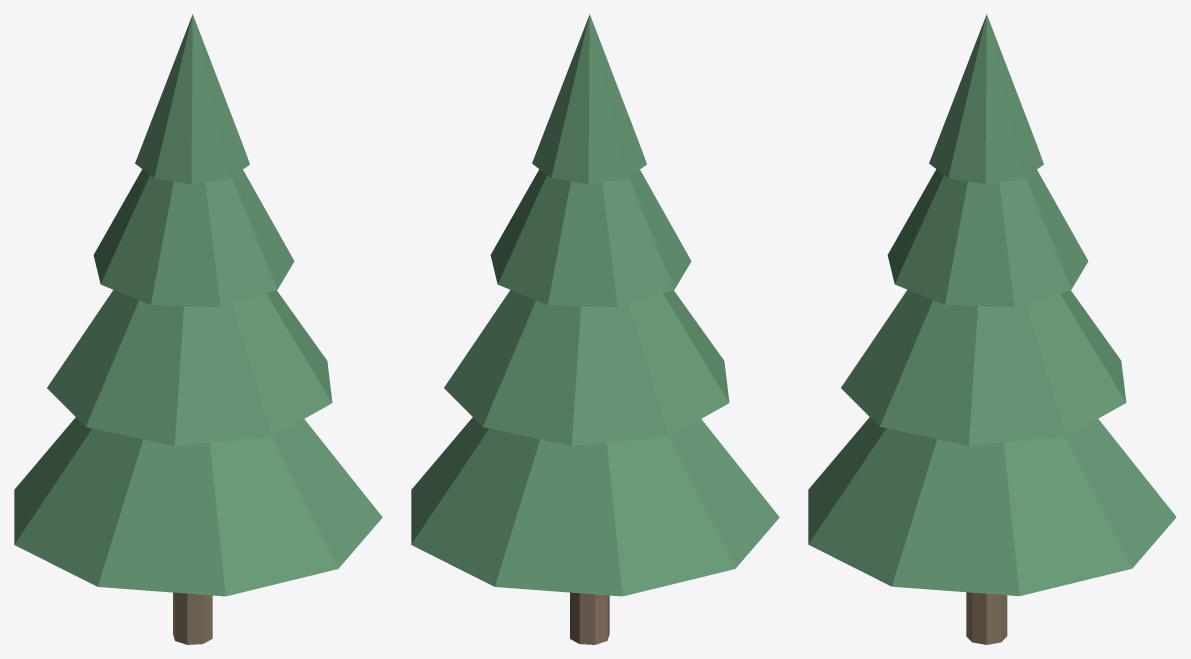
File: tree_pine.glb
The picture shows the model from 3 angles, left to right: view 1: azimuth 30°, elevation 25°; view 2: azimuth 150°, elevation 25°; view 3: azimuth 270°, elevation 25°; orthographic projection.
Visible parts, largest first — view 1: pine_cone0, pine_cone1, pine_cone2, pine_cone3, pine_trunk; view 2: pine_cone0, pine_cone1, pine_cone2, pine_cone3, pine_trunk; view 3: pine_cone0, pine_cone1, pine_cone2, pine_cone3, pine_trunk.
Part boxes in pixels (bbox=[...]): pine_cone0: bbox=[14, 417, 382, 596]; pine_cone1: bbox=[47, 290, 332, 446]; pine_cone2: bbox=[93, 169, 294, 307]; pine_cone3: bbox=[135, 14, 249, 184]; pine_trunk: bbox=[173, 592, 212, 644]; pine_cone0: bbox=[411, 417, 779, 596]; pine_cone1: bbox=[444, 290, 729, 446]; pine_cone2: bbox=[490, 169, 691, 307]; pine_cone3: bbox=[532, 14, 646, 184]; pine_trunk: bbox=[570, 592, 609, 644]; pine_cone0: bbox=[808, 417, 1176, 596]; pine_cone1: bbox=[841, 289, 1126, 445]; pine_cone2: bbox=[887, 169, 1088, 306]; pine_cone3: bbox=[929, 14, 1043, 184]; pine_trunk: bbox=[966, 592, 1007, 644].
Size of the model in its own units: 5.12 by 9.4 by 5.04.
